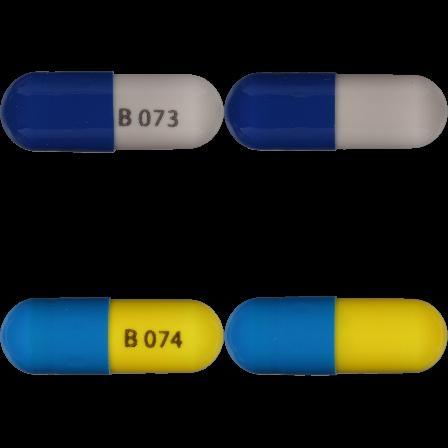51991-073: (0, 0, 224, 224)
